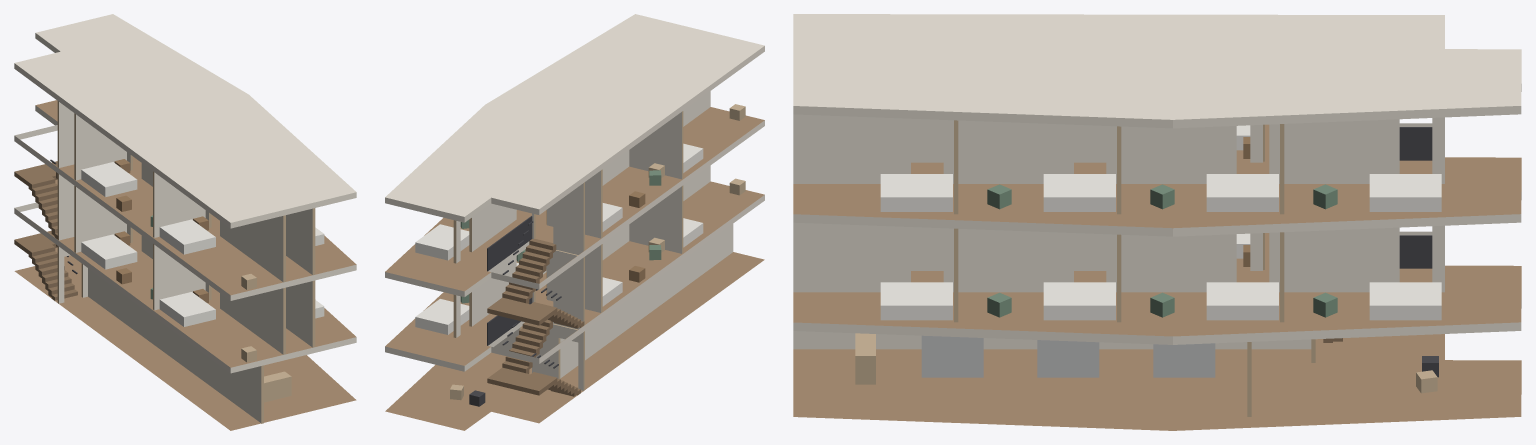
File: interior.glb
3 renders of one model, left to right at view 1: azimuth 30°, elevation 25°; view 2: azimuth 150°, elevation 25°; view 3: azimuth 270°, elevation 25°, orthographic. The views are drawn at different scales.
Parts seen in each view (by area): view 1: slabs, partitions, coarse-s2, coarse-s1, stair, coarse-s0; view 2: slabs, partitions, stair, coarse-s1, coarse-s2, coarse-s0; view 3: slabs, partitions, coarse-s1, coarse-s2, coarse-s0, stair.
Part boxes in pixels (box(x1,y1,x2,y2)): slabs: box(14, 14, 356, 430); partitions: box(57, 101, 315, 423); coarse-s2: box(81, 159, 324, 289); coarse-s1: box(81, 231, 324, 362); stair: box(14, 159, 77, 300); coarse-s0: box(264, 371, 291, 402); slabs: box(385, 14, 764, 430); partitions: box(453, 91, 733, 390); stair: box(487, 216, 584, 396); coarse-s1: box(415, 178, 745, 334); coarse-s2: box(415, 104, 745, 260); coarse-s0: box(450, 384, 485, 406); slabs: box(793, 14, 1521, 430); partitions: box(793, 114, 1444, 416); coarse-s1: box(880, 233, 1441, 320); coarse-s2: box(880, 125, 1441, 211); coarse-s0: box(855, 333, 1438, 393); stair: box(1323, 127, 1432, 342).
Bounding box in the file's own units: 6.92 × 9.5 × 20.12.
